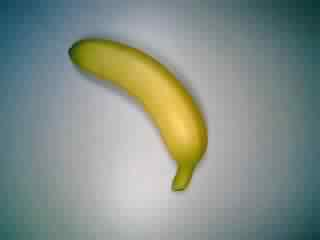banana: (61, 32, 213, 200)
